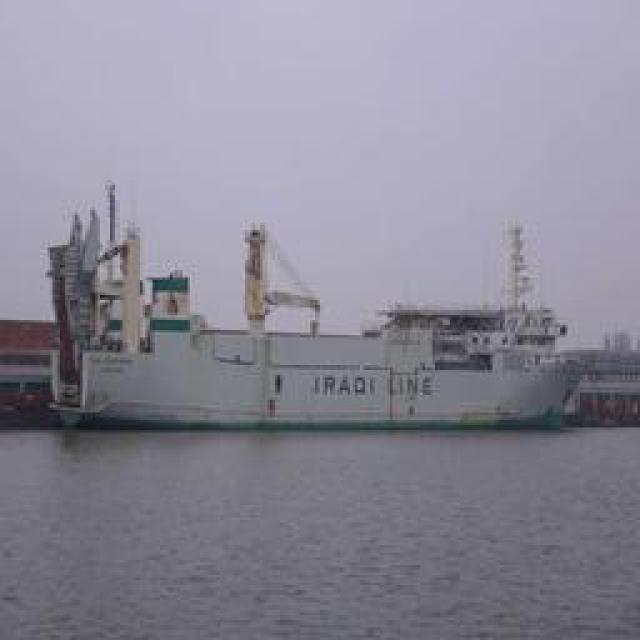Ship: (38, 179, 593, 432)
